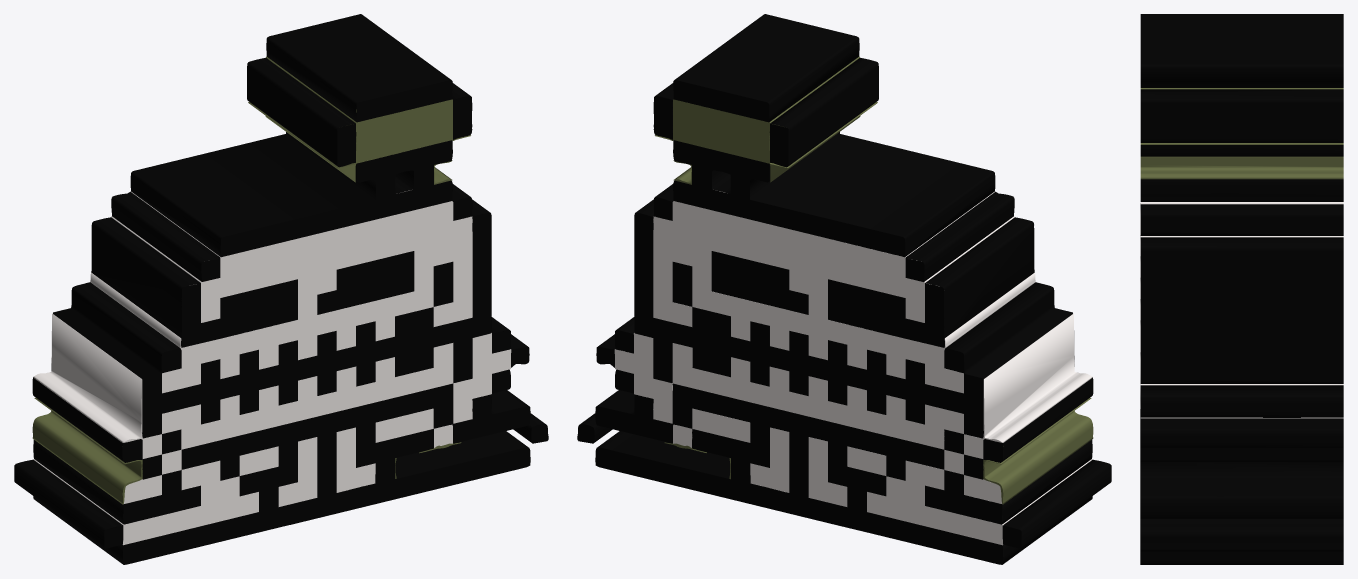
Rendered from Toadz_1868.glb.
3 views of the same model, side by side, from view 1: azimuth 30°, elevation 25°; view 2: azimuth 150°, elevation 25°; view 3: azimuth 270°, elevation 25° (orthographic). The views are drawn at different scales.
Visible parts, largest first — view 1: Curve; view 2: Curve; view 3: Curve.
Boxes of the visible parts, box(x1,y1,x2,y2) form: Curve: box(14, 14, 548, 564); Curve: box(577, 14, 1111, 564); Curve: box(1140, 14, 1343, 564).
Bounding box in the file's own units: 2.85 × 2.49 × 1.
